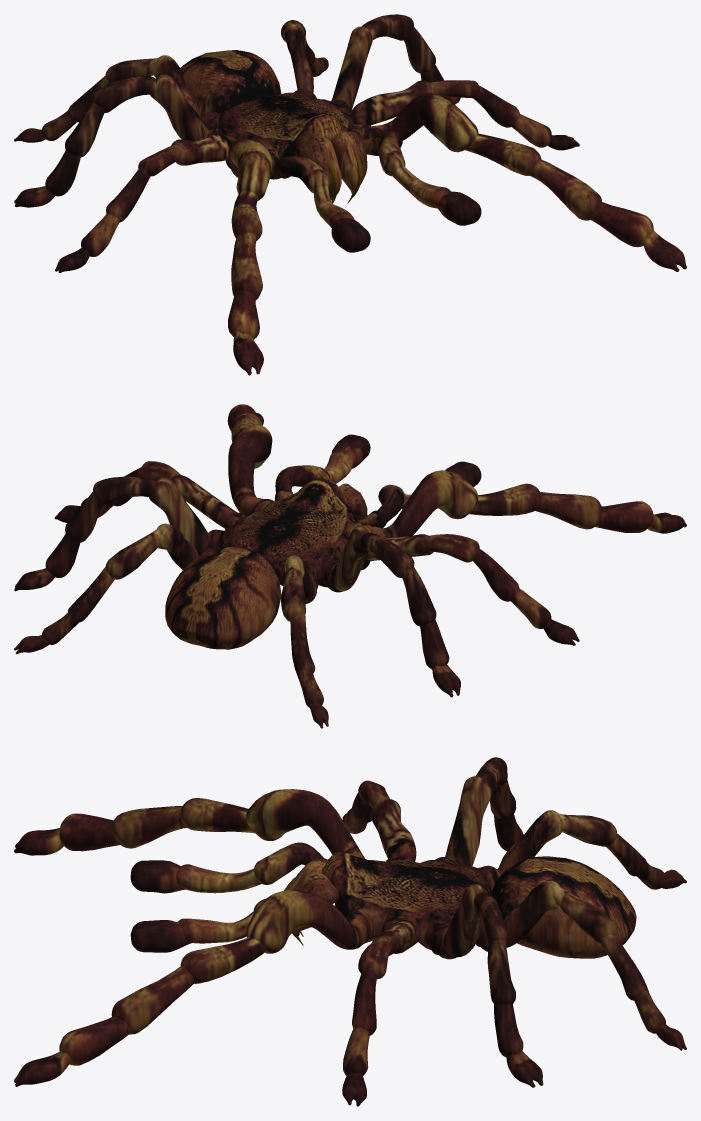
Rendered from Tarantula.fbx.
3 renders of one model, top to bottom at view 1: azimuth 30°, elevation 25°; view 2: azimuth 150°, elevation 25°; view 3: azimuth 270°, elevation 25°, orthographic. The views are drawn at different scales.
Visible parts, largest first — view 1: Object_4; view 2: Object_4; view 3: Object_4.
Part boxes in pixels (x1,y1,x2,y2): Object_4: (14,14,686,375); Object_4: (14,404,686,728); Object_4: (14,757,686,1106).
Size of the model in its own units: 1439 by 321 by 1435.
2 materials, 1 textured.
